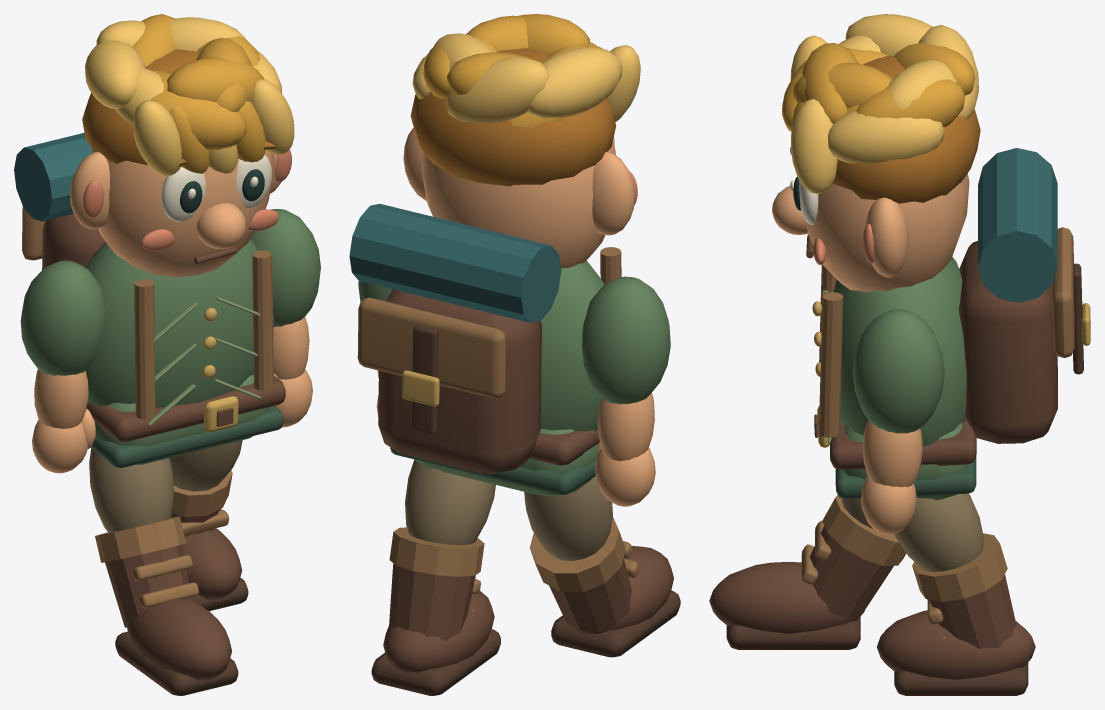
Rendered from traveller.glb.
The picture shows the model from 3 angles, left to right: view 1: azimuth 30°, elevation 25°; view 2: azimuth 150°, elevation 25°; view 3: azimuth 270°, elevation 25°; orthographic projection. The views are drawn at different scales.
Parts seen in each view (by area): view 1: Quilted tunic, Face, Puffed sleeve, Boot toe, Trouser thigh, Puffed sleeve.001, Bedroll, Belt, Tunic hem, Hair cap, Tousled lock.009, Boot toe.001 (+40 smaller); view 2: Bedroll, Satchel, Hair cap, Face, Puffed sleeve, Satchel flap, Quilted tunic, Trouser thigh.001, Trouser thigh, Boot shaft.001, Tousled lock.009, Tousled lock.006 (+23 smaller); view 3: Satchel, Bedroll, Face, Quilted tunic, Puffed sleeve.001, Hair cap, Boot toe, Boot toe.001, Trouser thigh.001, Tousled lock, Boot shaft, Boot shaft.001 (+25 smaller).
Part boxes in pixels (<box>): Quilted tunic: <box>85,238,274,407</box>; Face: <box>91,149,275,277</box>; Puffed sleeve: <box>20,260,105,375</box>; Boot toe: <box>127,598,231,680</box>; Trouser thigh: <box>89,448,174,532</box>; Puffed sleeve.001: <box>251,209,320,326</box>; Bedroll: <box>14,133,92,221</box>; Belt: <box>86,375,285,441</box>; Tunic hem: <box>91,406,283,467</box>; Hair cap: <box>82,49,198,165</box>; Tousled lock.009: <box>85,40,145,109</box>; Boot toe.001: <box>182,528,242,599</box>; Bedroll: <box>349,204,561,322</box>; Satchel: <box>378,289,541,473</box>; Hair cap: <box>410,48,615,186</box>; Face: <box>421,140,615,268</box>; Puffed sleeve: <box>582,276,670,404</box>; Satchel flap: <box>357,297,506,398</box>; Quilted tunic: <box>540,260,604,431</box>; Trouser thigh.001: <box>405,460,495,544</box>; Trouser thigh: <box>524,476,612,560</box>; Boot shaft.001: <box>389,563,475,640</box>; Tousled lock.009: <box>526,47,622,118</box>; Tousled lock.006: <box>446,57,549,123</box>; Satchel: <box>959,241,1057,443</box>; Bedroll: <box>978,148,1057,302</box>; Face: <box>806,173,969,292</box>; Quilted tunic: <box>833,257,966,446</box>; Puffed sleeve.001: <box>852,309,944,433</box>; Hair cap: <box>833,55,980,203</box>; Boot toe: <box>709,562,864,633</box>; Boot toe.001: <box>877,610,1035,679</box>; Trouser thigh.001: <box>894,493,983,571</box>; Tousled lock: <box>828,111,944,163</box>; Boot shaft: <box>809,526,893,618</box>; Boot shaft.001: <box>927,574,1016,648</box>.
Bounding box in the file's own units: 0.828 × 1.62 × 0.9113.
